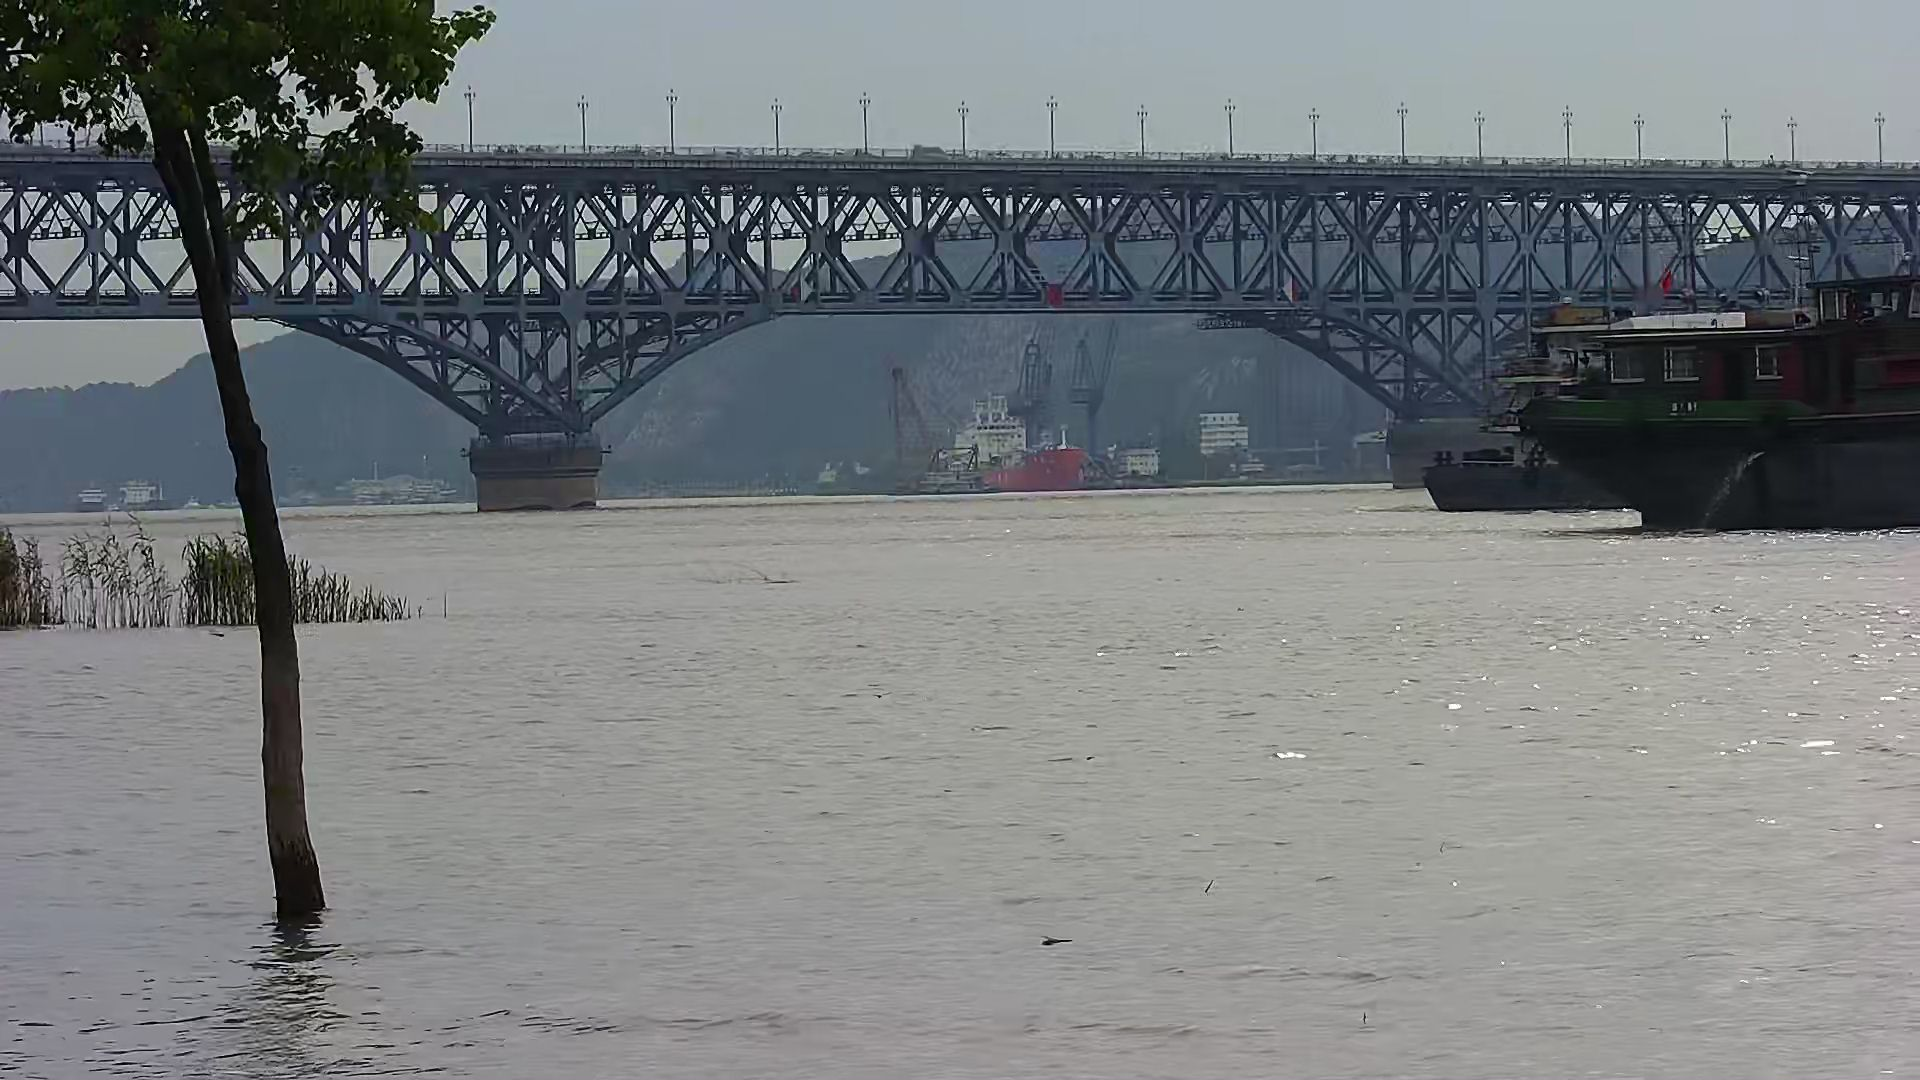bridge: (1, 108, 1917, 510)
grass: (1, 521, 421, 628)
ship: (1524, 262, 1920, 531), (1429, 303, 1920, 513)
tree: (1, 1, 491, 920)
